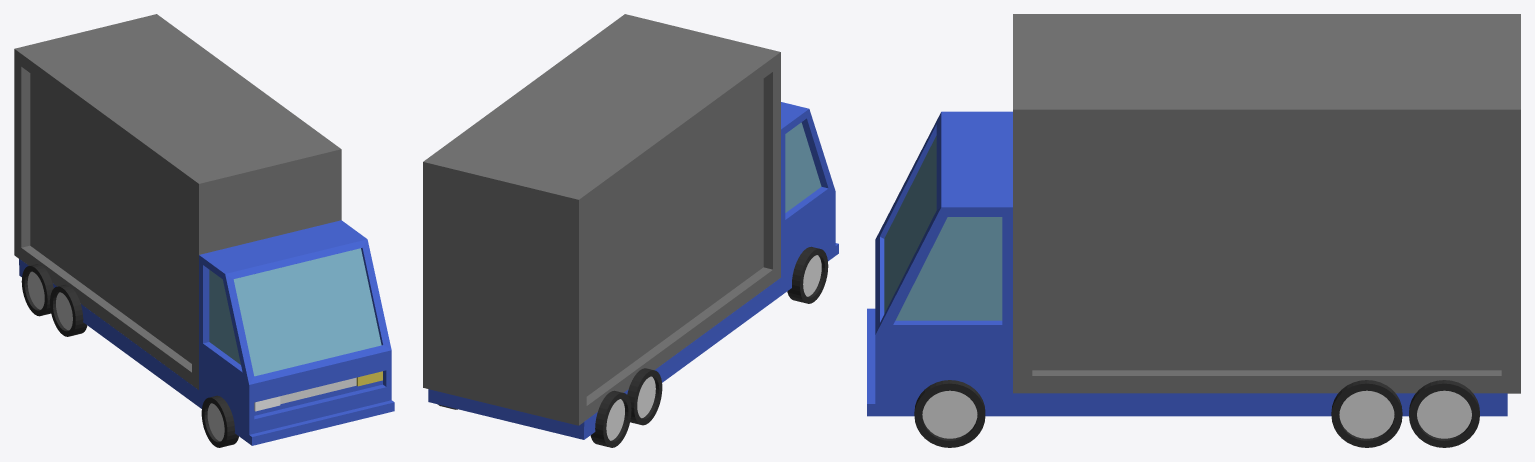
The model's file is truck_blue.glb.
3 views of the same model, side by side, from view 1: azimuth 30°, elevation 25°; view 2: azimuth 150°, elevation 25°; view 3: azimuth 270°, elevation 25° (orthographic). The views are drawn at different scales.
Visible parts, largest first — view 1: truck_blue; view 2: truck_blue; view 3: truck_blue.
Part boxes in pixels (left/top/right/bottom): truck_blue: left=14, top=14, right=394, bottom=447; truck_blue: left=423, top=14, right=838, bottom=447; truck_blue: left=867, top=14, right=1520, bottom=447.
Size of the model in its own units: 2.75 by 4.12 by 7.29.
